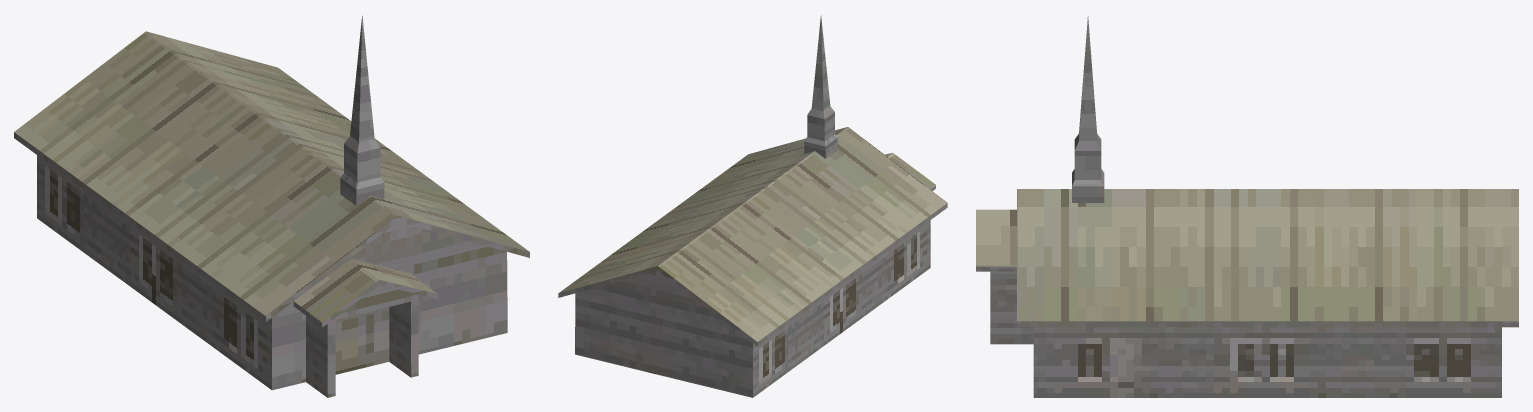
Rendered from cuntw_weechurch_lod.obj.
The picture shows the model from 3 angles, left to right: view 1: azimuth 30°, elevation 25°; view 2: azimuth 150°, elevation 25°; view 3: azimuth 270°, elevation 25°; orthographic projection. The views are drawn at different scales.
Parts seen in each view (by area): view 1: cuntw_weechurch_LOD; view 2: cuntw_weechurch_LOD; view 3: cuntw_weechurch_LOD.
Part boxes in pixels (x1,y1,x2,y2): cuntw_weechurch_LOD: (14, 15, 529, 397); cuntw_weechurch_LOD: (558, 15, 947, 397); cuntw_weechurch_LOD: (976, 16, 1518, 397).
Size of the model in its own units: 10.4 by 12.33 by 18.57.
Materials: 1 (1 with a texture image).
